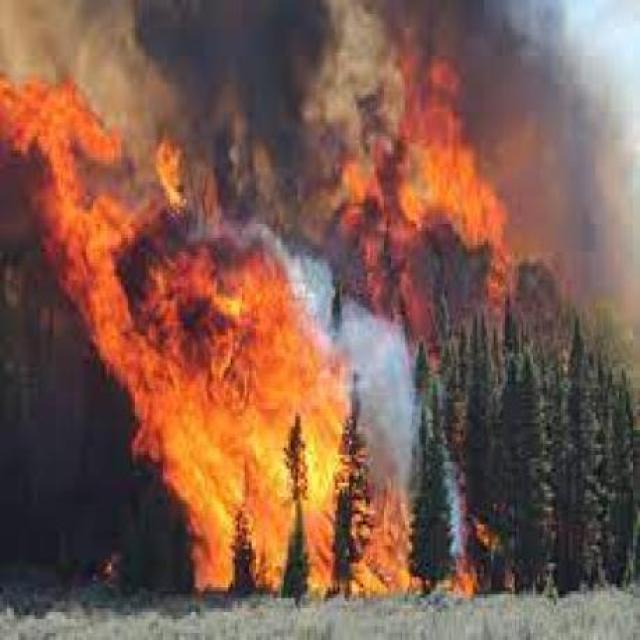Fire: (0, 78, 402, 598), (351, 60, 530, 329)
Smoke: (3, 2, 552, 60), (156, 70, 349, 234), (470, 62, 640, 210)
